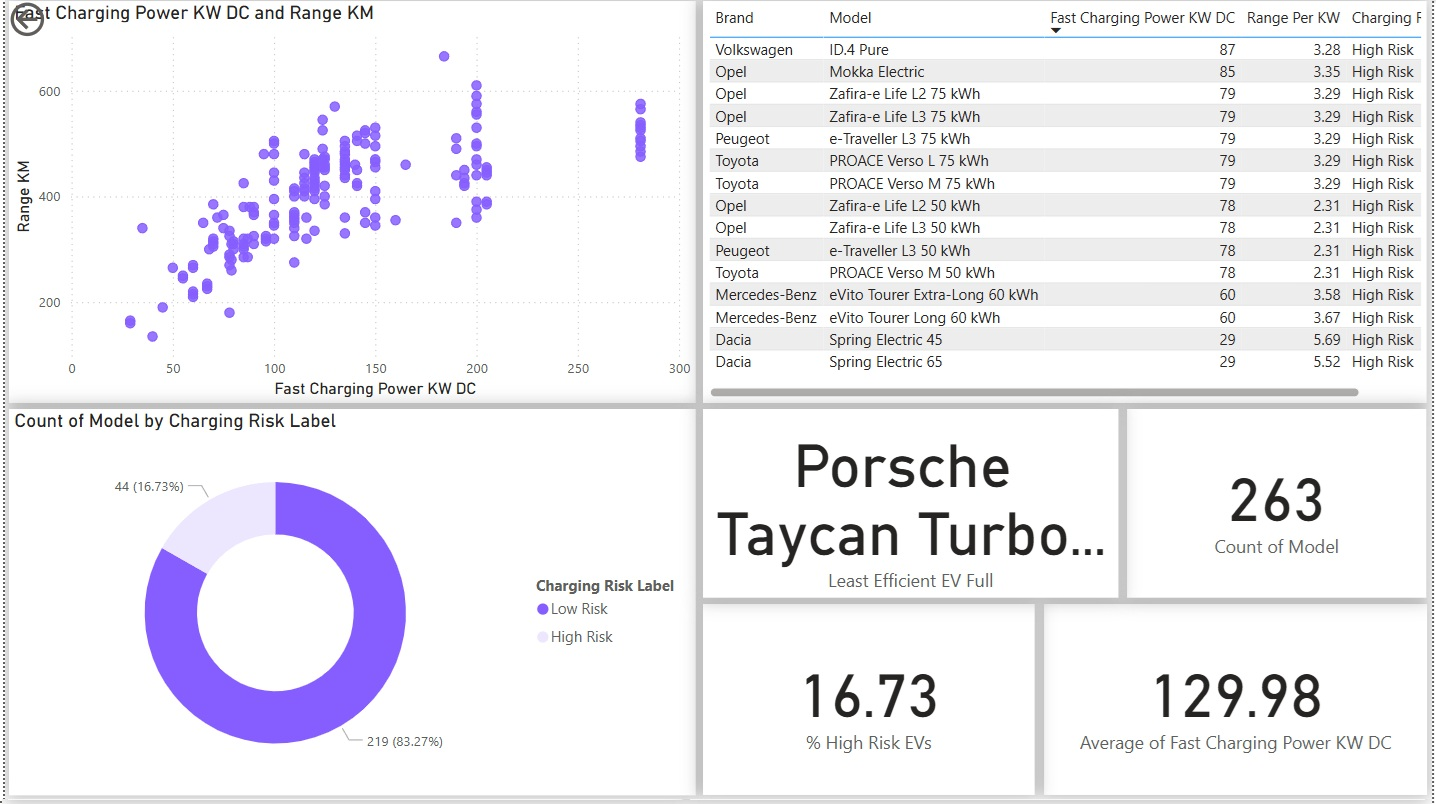

What the dashboard file says about the page in this screenshot:
{"tool":"powerbi","page":{"name":"Charging Risk Analysis – Infrastructure Readiness","canvas":[1280,720],"ordinal":2},"visuals":[{"type":"scatterChart","fields":{"X":["Sum(ev_charging_risk_flagged.fast_charging_power_kw_dc)"],"Y":["Sum(ev_charging_risk_flagged.range_km)"]},"box":[4,4,615,360],"z":0},{"type":"donutChart","fields":{"Category":["ev_charging_risk_flagged.Charging Risk Label"],"Y":["CountNonNull(ev_charging_risk_flagged.model)"]},"box":[4,369,615,346],"z":1000},{"type":"tableEx","fields":{"Values":["ev_charging_risk_flagged.brand","ev_charging_risk_flagged.model","ev_charging_risk_flagged.Fast Charging Power KW DC","Sum(ev_charging_risk_flagged.range_per_kw)","ev_charging_risk_flagged.Charging Risk Label"]},"box":[625,4,648,360],"z":2000},{"type":"card","fields":{"Values":["Avg(ev_charging_risk_flagged.Fast Charging Power KW DC)"]},"box":[930,544,343,171],"z":3000},{"type":"card","fields":{"Values":["ev_charging_risk_flagged.% High Risk EVs"]},"box":[625,544,297,171],"z":4000},{"type":"card","fields":{"Values":["CountNonNull(ev_charging_risk_flagged.Model)"]},"box":[1005,369,268,169],"z":5000},{"type":"card","fields":{"Values":["ev_charging_risk_flagged.Least Efficient EV"]},"box":[625,369,372,169],"z":6000},{"type":"actionButton","box":[0,0,100,40],"z":7000}]}

Visuals, with their boxes in screenshot pixels (x1, y1, x2, y2), scaled from the page's 1280x720 canvas onto the 1436x804 screenshot:
scatterChart - Sum(ev_charging_risk_flagged.fast_charging_power_kw_dc) x Sum(ev_charging_risk_flagged.range_km): 4,4,694,406
donutChart - ev_charging_risk_flagged.Charging Risk Label x CountNonNull(ev_charging_risk_flagged.model): 4,412,694,798
tableEx - ev_charging_risk_flagged.brand x ev_charging_risk_flagged.model: 701,4,1428,406
card - Avg(ev_charging_risk_flagged.Fast Charging Power KW DC): 1043,607,1428,798
card - ev_charging_risk_flagged.% High Risk EVs: 701,607,1034,798
card - CountNonNull(ev_charging_risk_flagged.Model): 1127,412,1428,601
card - ev_charging_risk_flagged.Least Efficient EV: 701,412,1119,601
actionButton: 0,0,112,45
